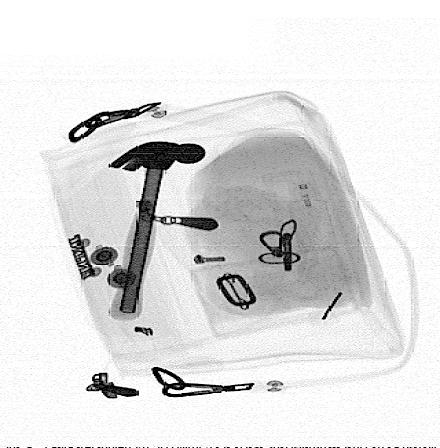Hammer: (106, 141, 206, 321)
